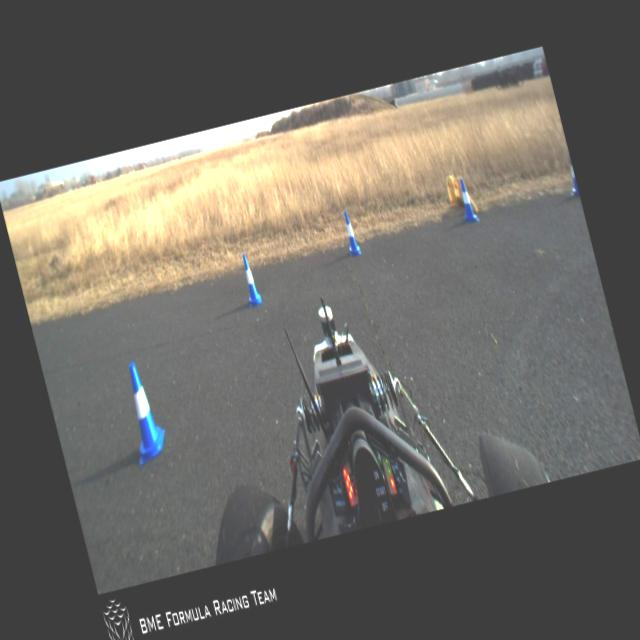blue_cone: (115, 358, 172, 465), (237, 252, 262, 308), (339, 209, 362, 256), (456, 178, 478, 224), (559, 152, 579, 196)
unknown_cone: (452, 173, 478, 216), (444, 174, 460, 208)
